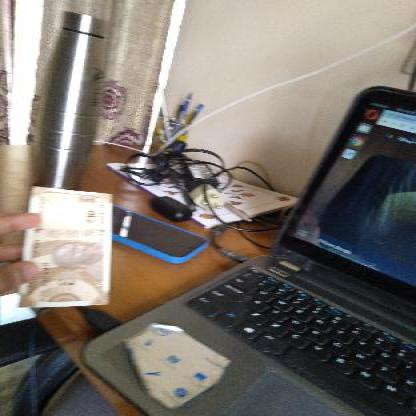New10Front: (24, 189, 112, 306)
